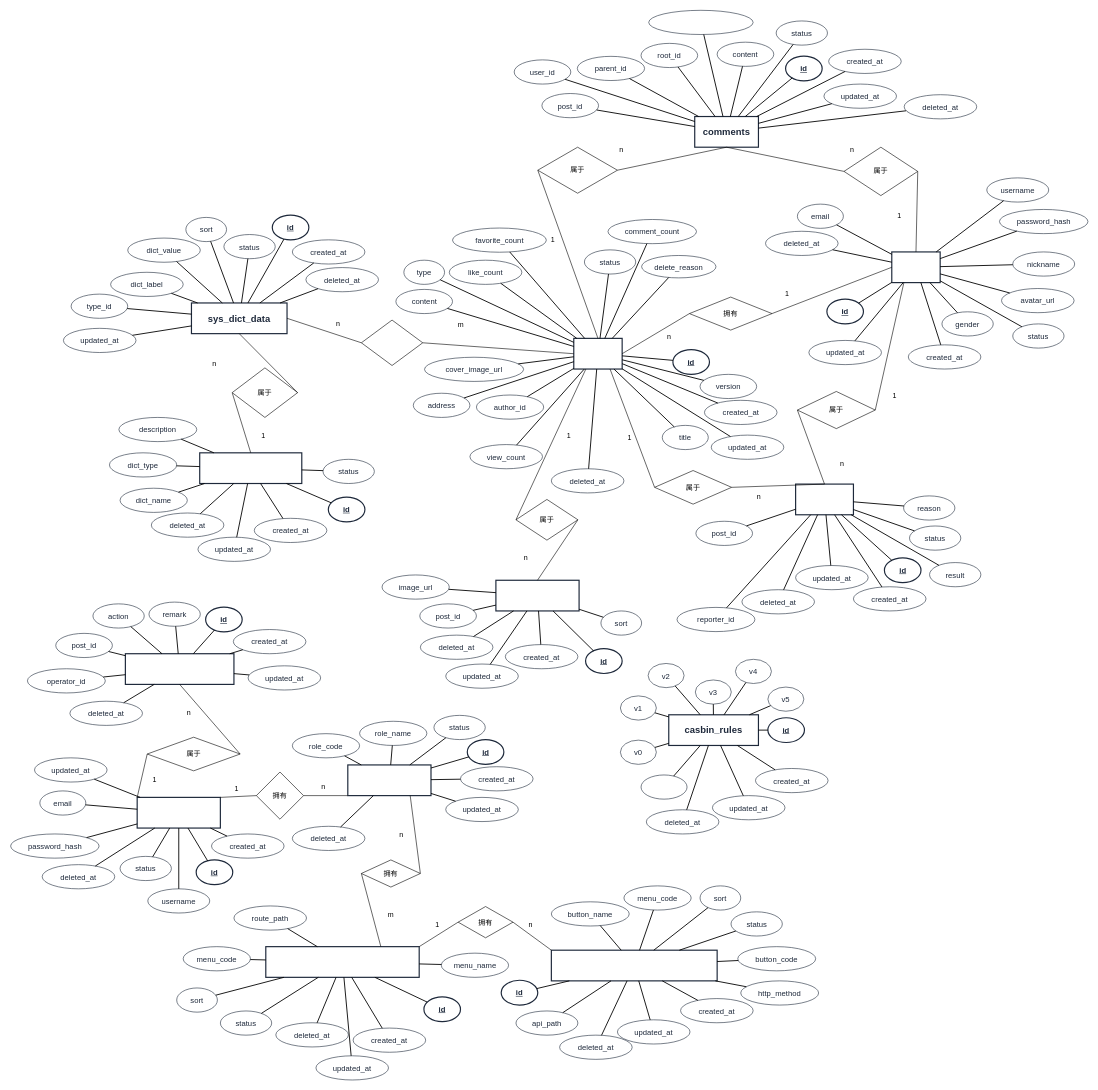
Image size: 1098x1090. Some labels were removed from this diagram. Each missing label, with the box of its shape:
admin_button_permissions: (550, 949, 717, 981)
admin_menu_permissions: (265, 946, 419, 978)
admin_roles: (347, 764, 431, 796)
admin_users: (136, 796, 221, 828)
moderation_logs: (124, 653, 234, 685)
post_images: (495, 579, 579, 611)
posts: (573, 337, 622, 369)
ptype: (640, 774, 687, 799)
reply_to_user_id: (648, 10, 753, 35)
reports: (795, 483, 854, 515)
sys_dict_types: (199, 452, 302, 484)
users: (891, 251, 940, 283)
选择: (361, 319, 423, 366)
